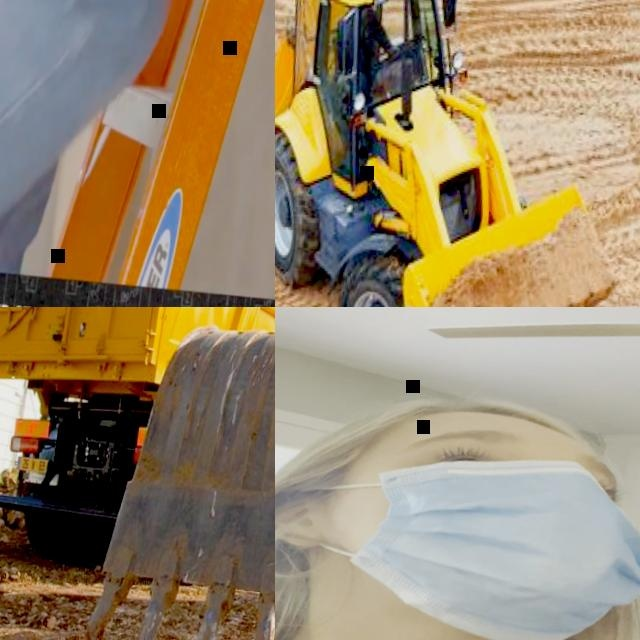Mask: (281, 433, 640, 640)
NO-Hardhat: (324, 385, 601, 458)
Person: (275, 355, 640, 640), (0, 0, 206, 285), (348, 9, 402, 80)
machinery: (275, 0, 640, 307), (0, 307, 275, 604), (87, 307, 275, 640)
